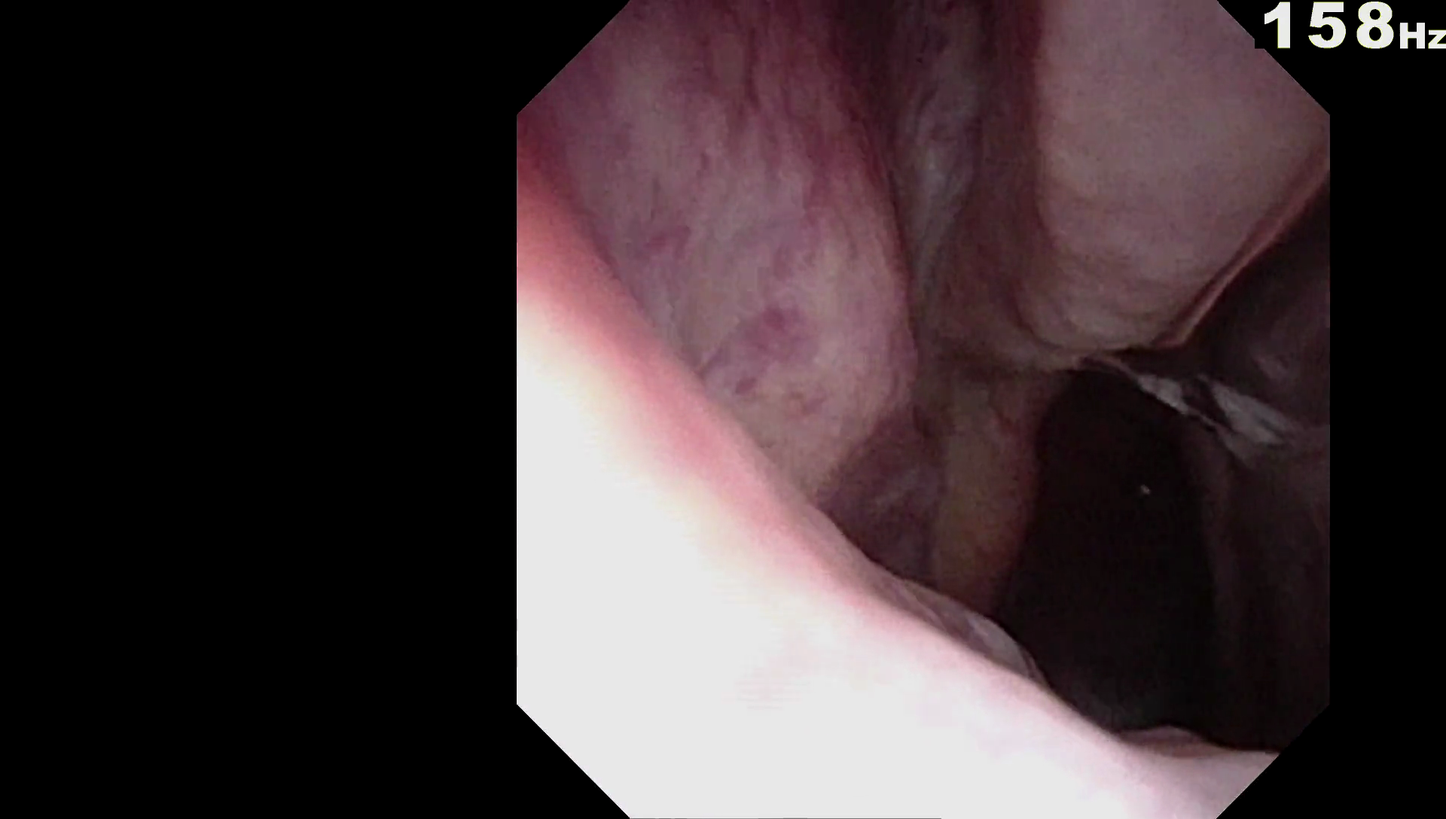close_wall: (532, 169, 1211, 817)
next: (986, 318, 1247, 738)
